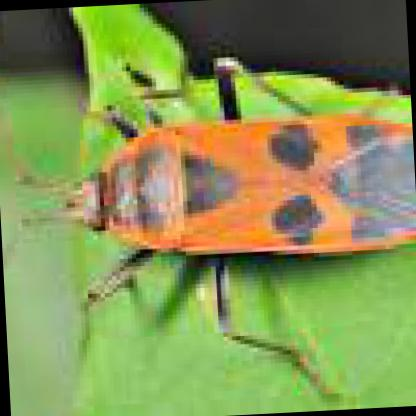blister beetle: (7, 58, 413, 344)
